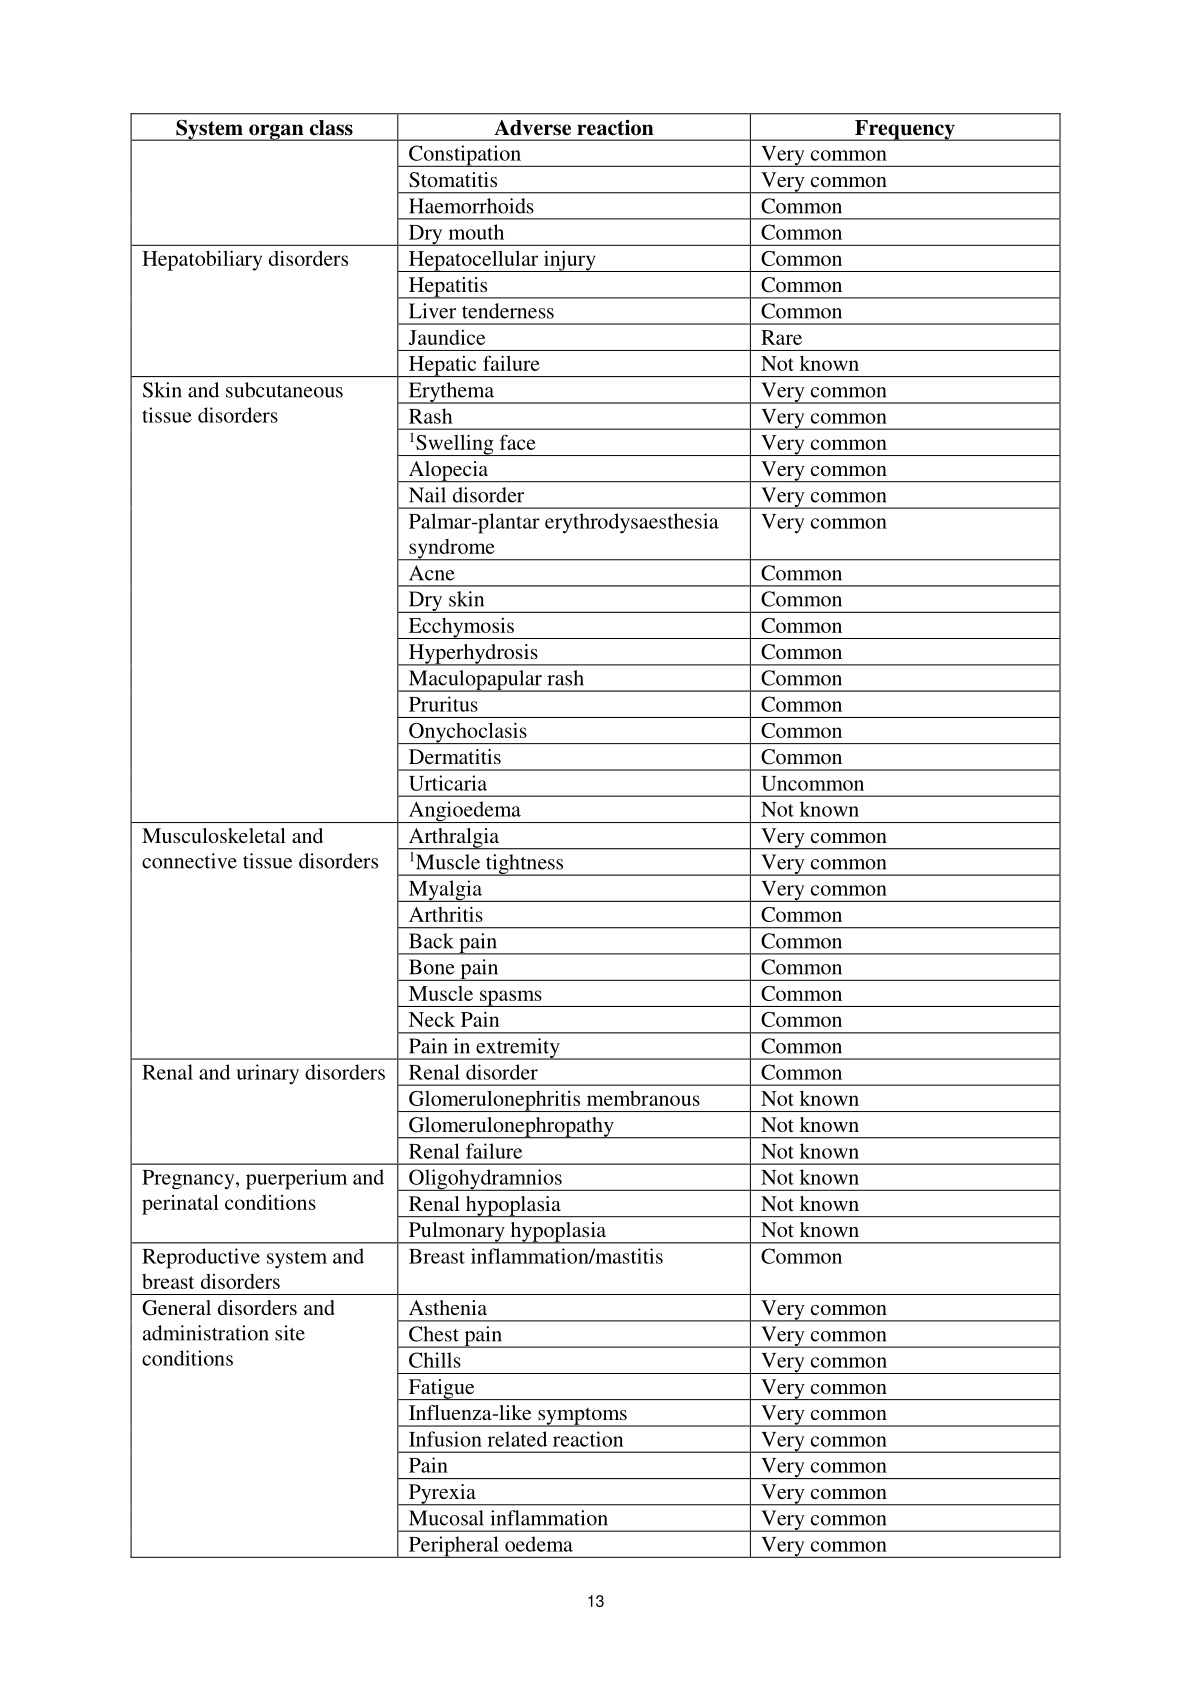merged_cells: (129, 112, 1062, 1559)
